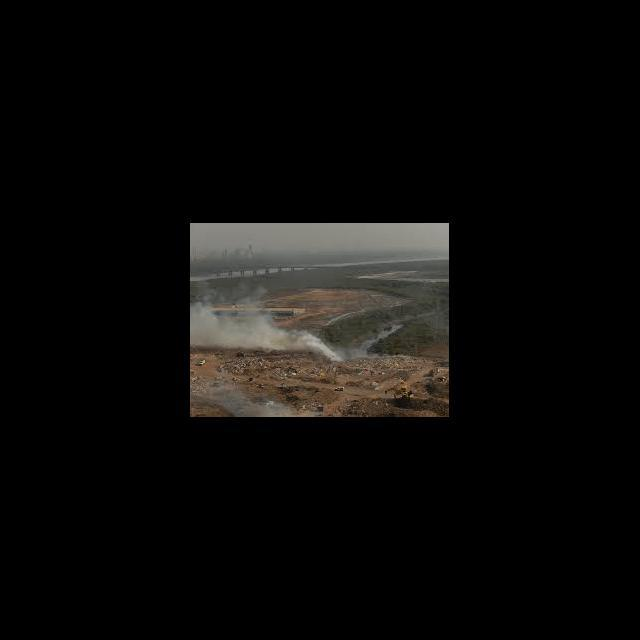Smoke: (192, 310, 280, 349), (279, 329, 344, 362)
